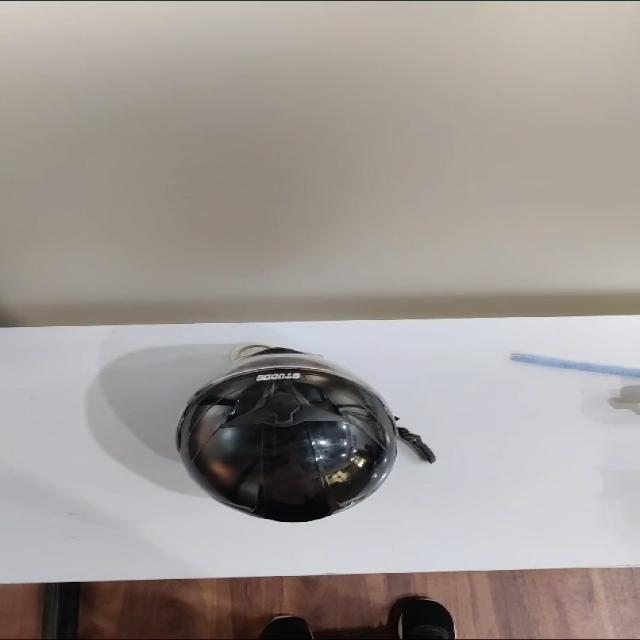helmet: (177, 346, 433, 521)
